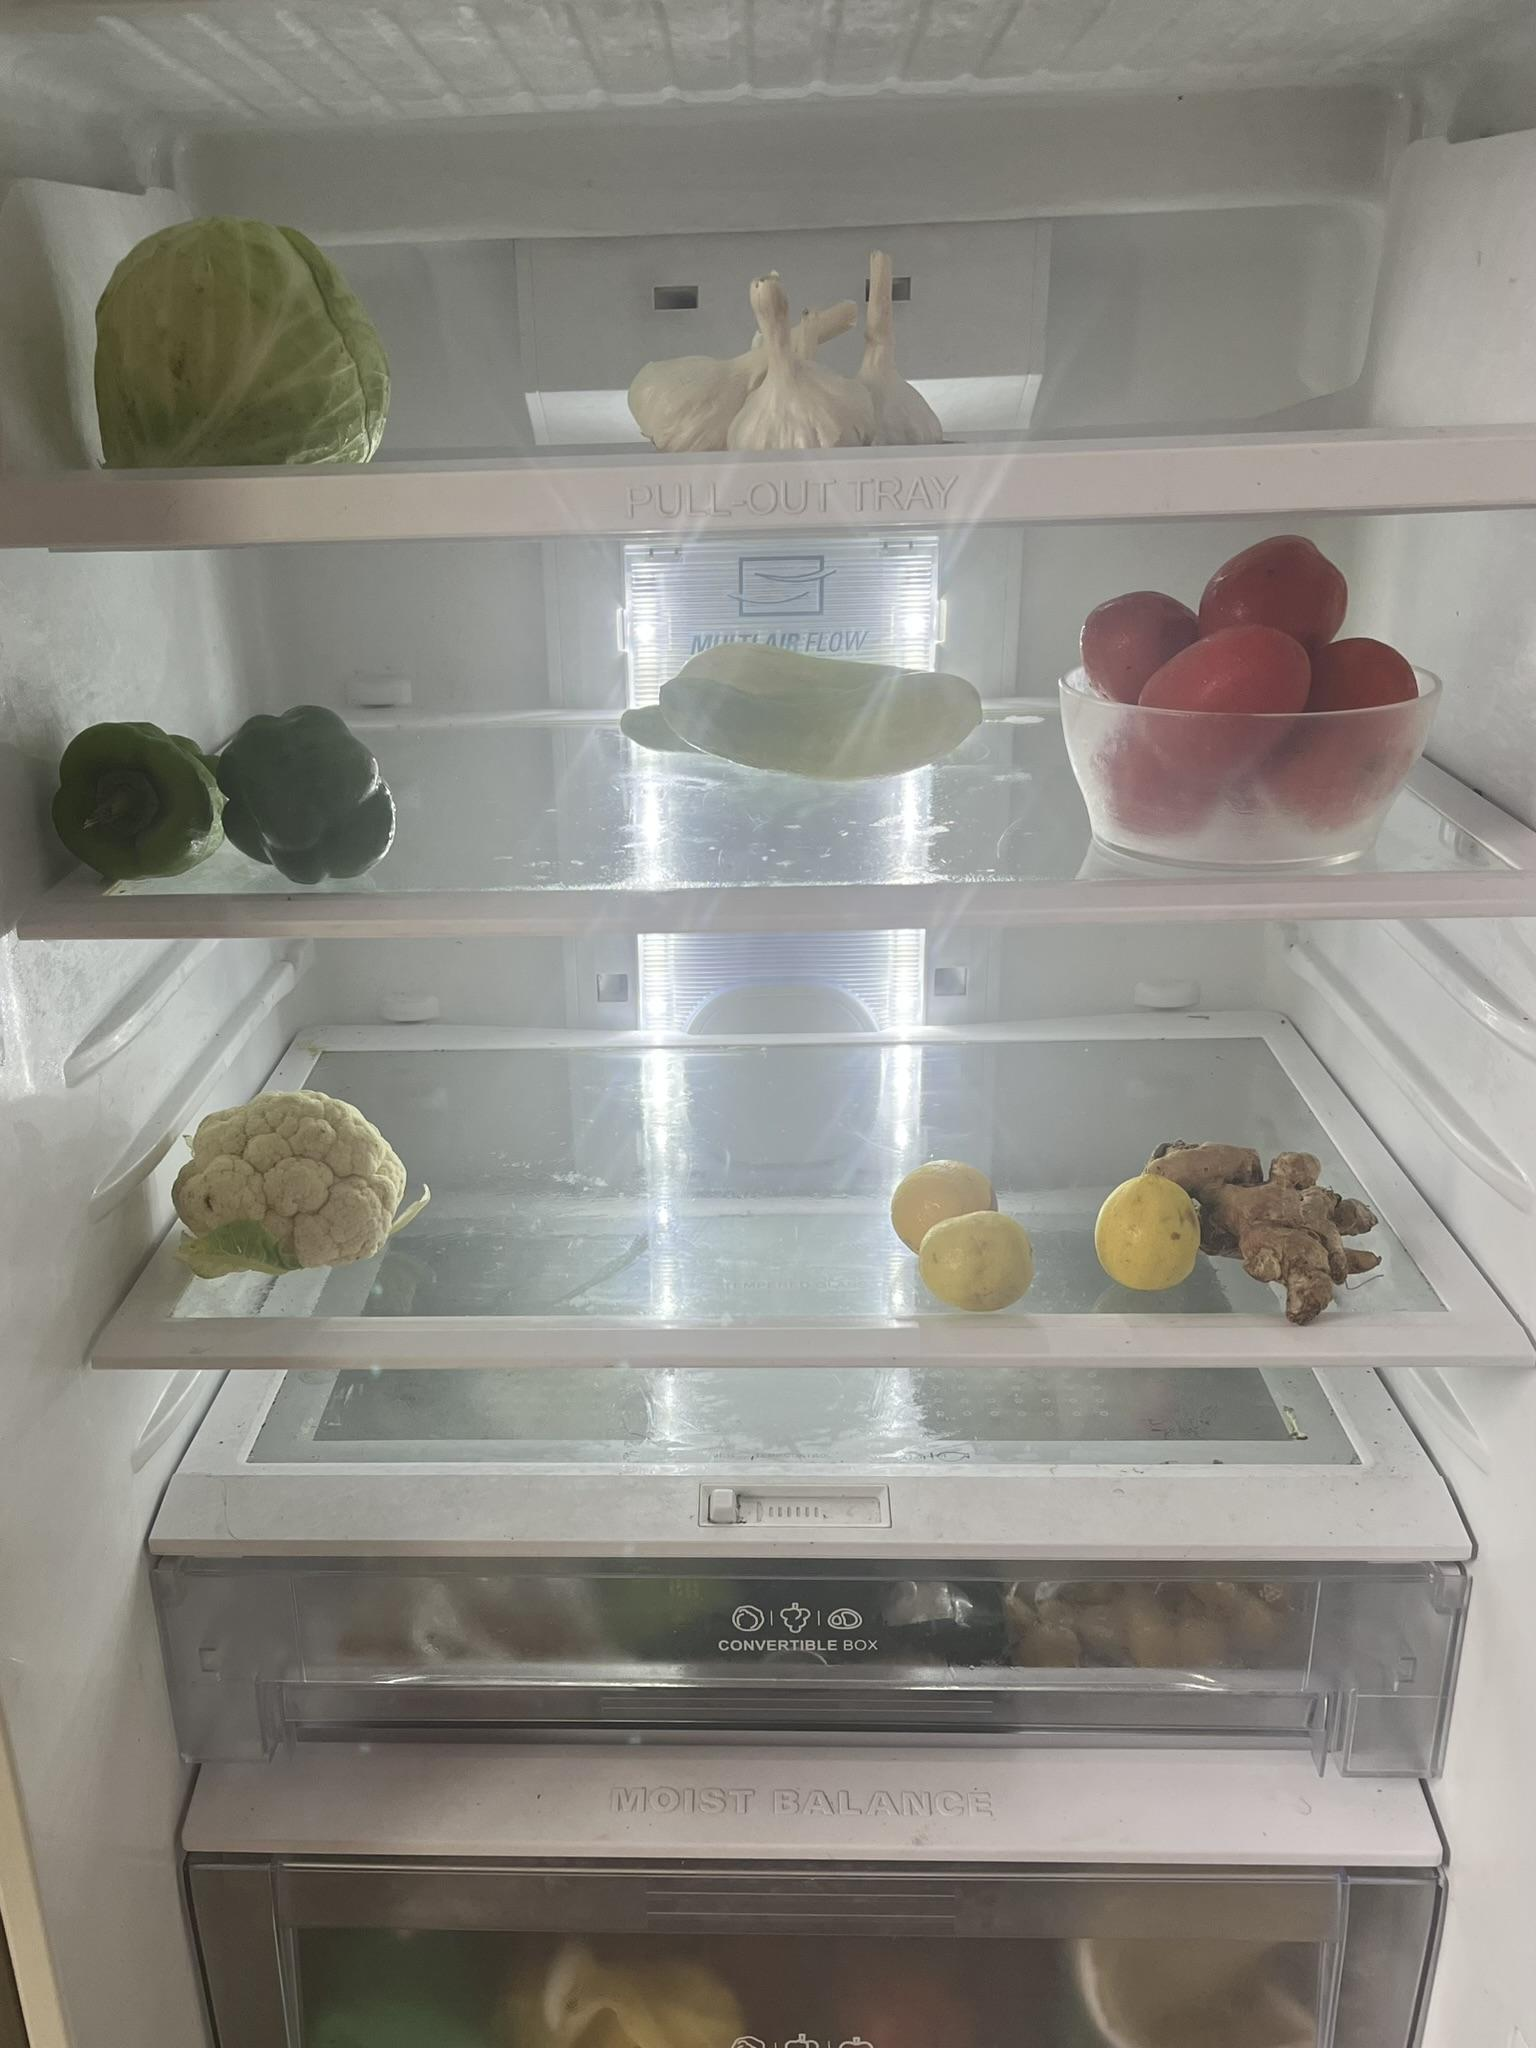cabbage: (86, 213, 382, 468)
capsicum: (60, 710, 390, 876)
cauliflower: (169, 1090, 395, 1264)
cucumber: (618, 637, 973, 785)
garlic: (632, 245, 947, 445)
ginger: (1150, 1140, 1388, 1314)
lemon: (892, 1155, 1033, 1313), (1092, 1177, 1205, 1287)
tomato: (1083, 531, 1415, 845)
